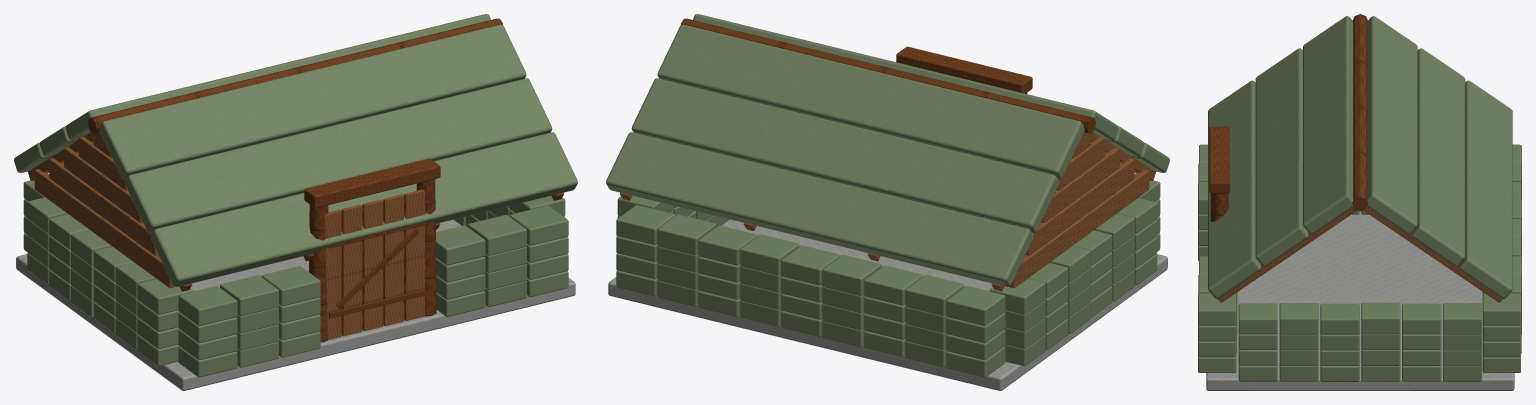
Rendered from coop.glb.
3 views of the same model, side by side, from view 1: azimuth 30°, elevation 25°; view 2: azimuth 150°, elevation 25°; view 3: azimuth 270°, elevation 25° (orthographic). The views are drawn at different scales.
Visible parts, largest first — view 1: animal-byre, door-byre/pine, door-byre/oak; view 2: animal-byre; view 3: animal-byre.
Part boxes in pixels (<box>): animal-byre: <box>14,14,577,390</box>; door-byre/pine: <box>325,189,424,339</box>; door-byre/oak: <box>329,222,426,318</box>; animal-byre: <box>606,14,1169,390</box>; animal-byre: <box>1198,14,1521,390</box>.
Size of the model in its own units: 5.5 by 2.77 by 4.1.
Materials: 4 (4 with a texture image).
